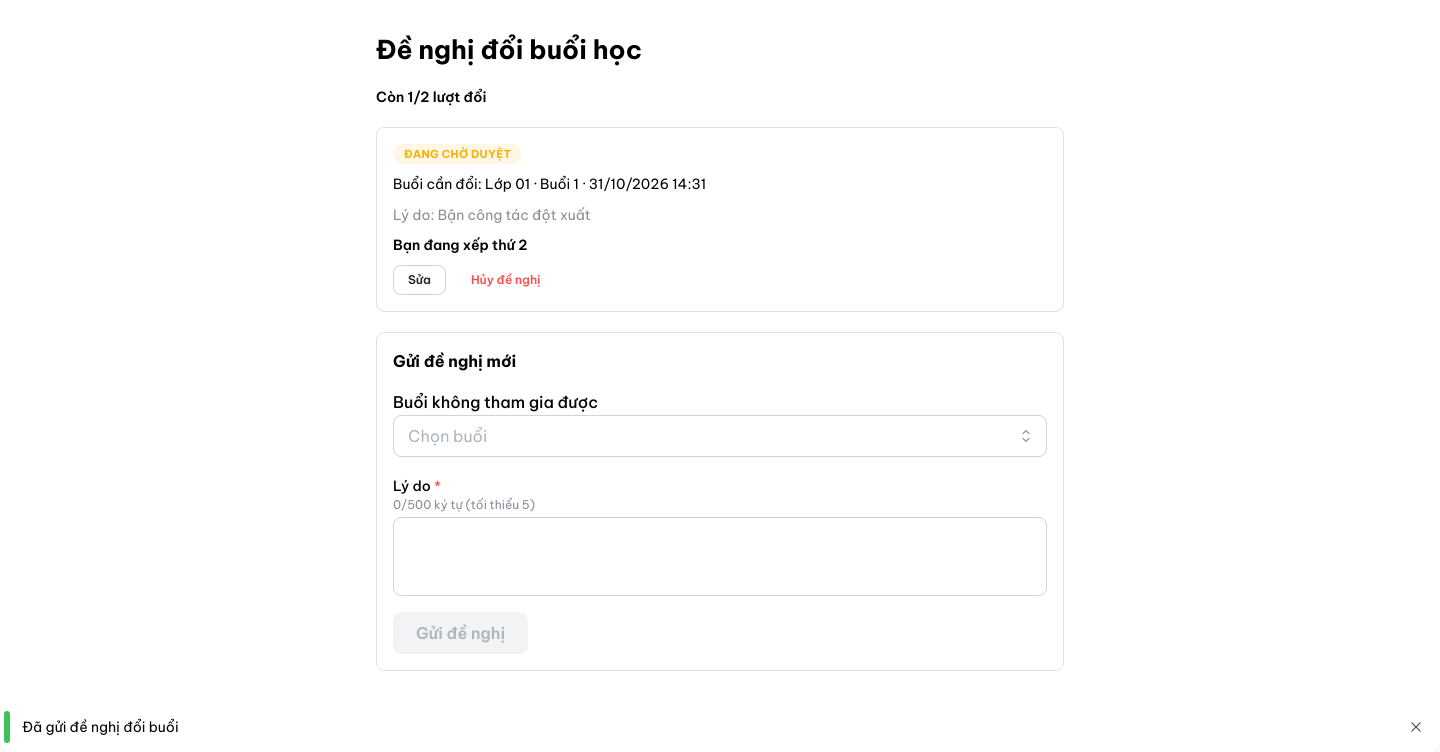
Scenario: Trang đề nghị đổi buổi (học viên) › đề nghị đang chờ: hiện thứ tự hàng; bấm Sửa hiện cảnh báo về cuối hàng chờ
Expected: the text "Bạn đang xếp thứ 2" is shown, [393,236,527,254]
Expected: the text "Sửa sẽ đưa bạn về cuối hàng chờ" is not shown
Click the button "Sửa": (419, 280) [393,265,446,295]
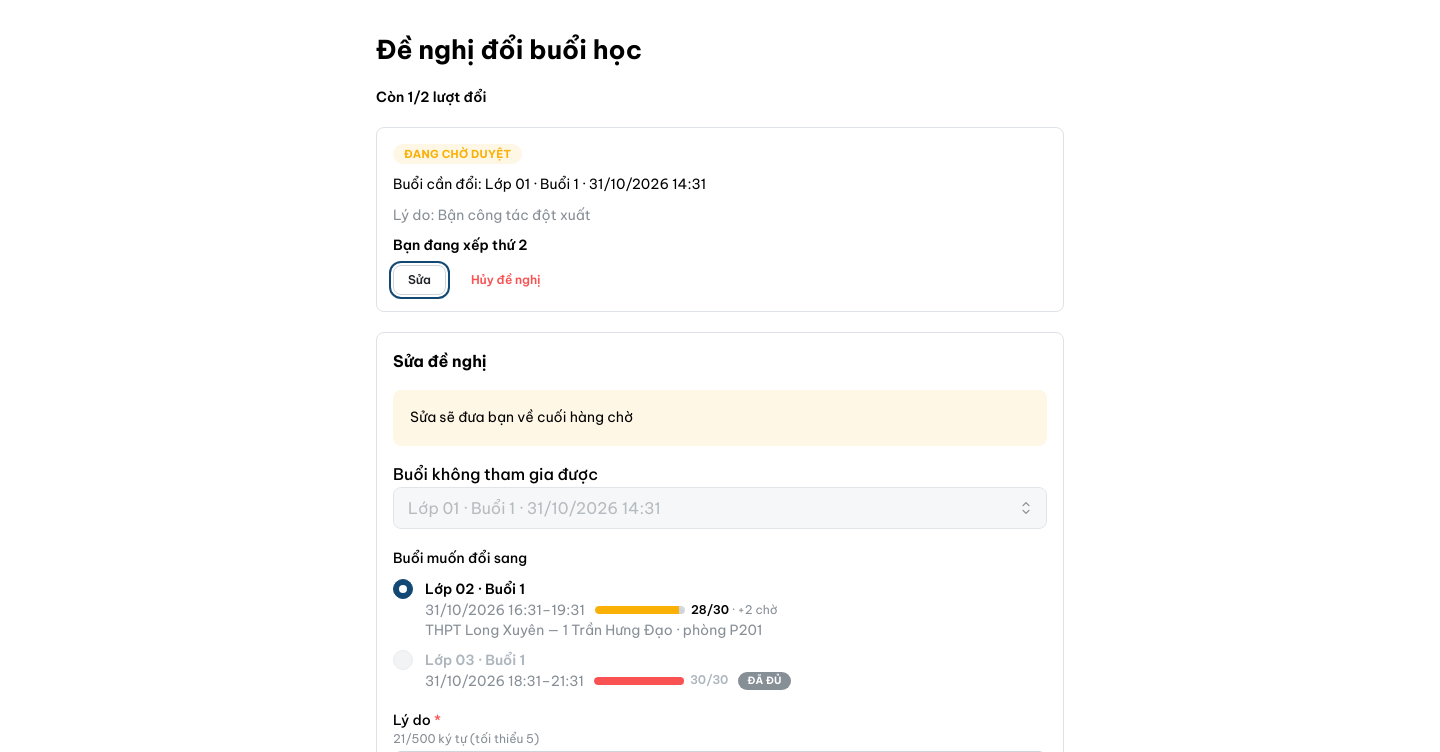
Result: the text "Sửa sẽ đưa bạn về cuối hàng chờ" is shown at [410,408,633,426]
